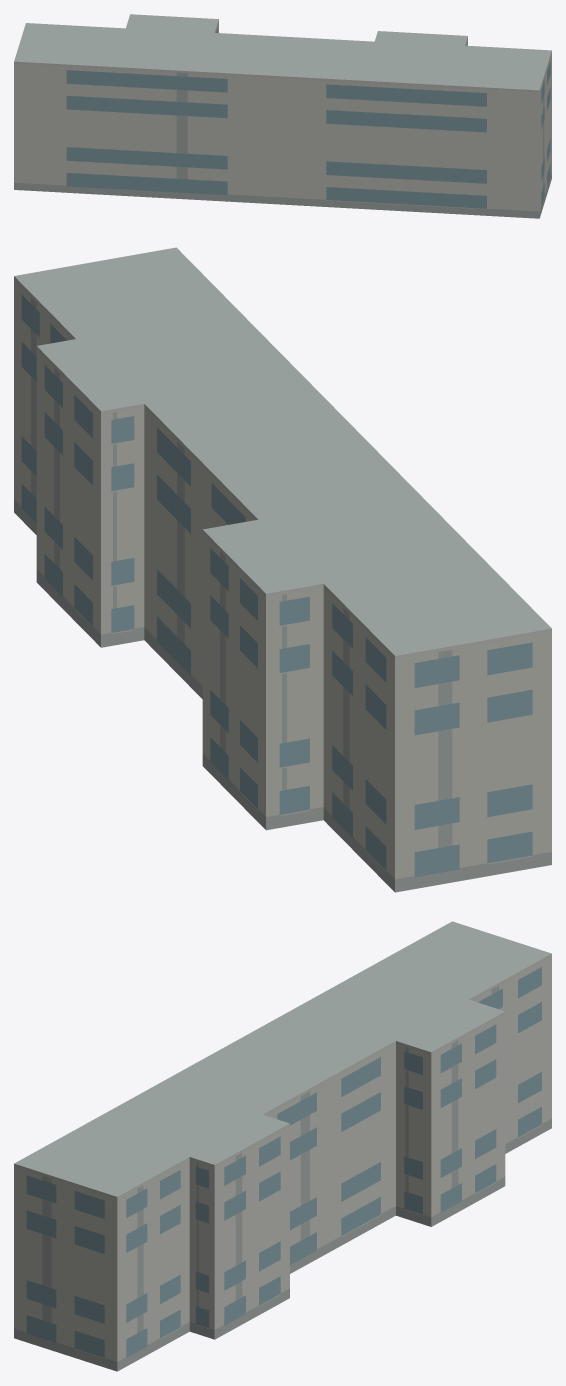
File: residential-2e38f85d-767a-405e-9964-b3b2e795fed3.glb
3 renders of one model, top to bottom at view 1: azimuth 30°, elevation 25°; view 2: azimuth 150°, elevation 25°; view 3: azimuth 270°, elevation 25°, orthographic. The views are drawn at different scales.
Visible parts, largest first — view 1: residential-2e38f85d-767a-405e-9964-b3b2e795fed3.tmp; view 2: residential-2e38f85d-767a-405e-9964-b3b2e795fed3.tmp; view 3: residential-2e38f85d-767a-405e-9964-b3b2e795fed3.tmp.
Part boxes in pixels (left/top/right/bottom): residential-2e38f85d-767a-405e-9964-b3b2e795fed3.tmp: left=14, top=14, right=551, bottom=218; residential-2e38f85d-767a-405e-9964-b3b2e795fed3.tmp: left=14, top=247, right=551, bottom=892; residential-2e38f85d-767a-405e-9964-b3b2e795fed3.tmp: left=14, top=921, right=551, bottom=1371.
Size of the model in its own units: 51.61 by 15.25 by 42.57.
